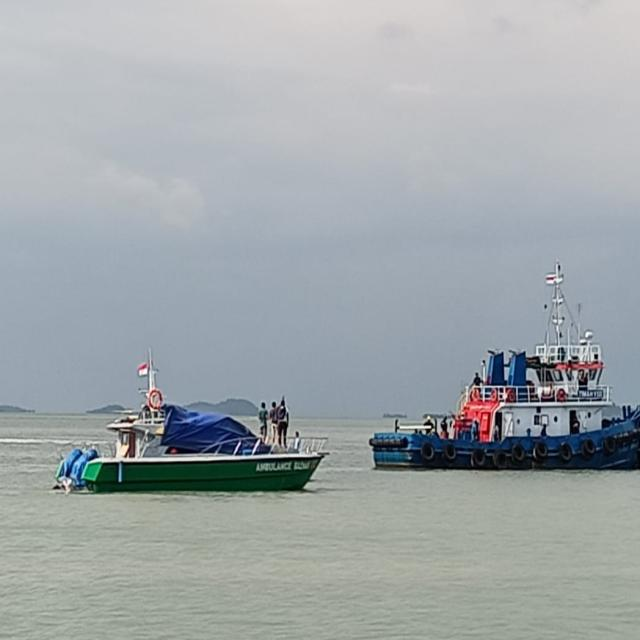fishing boat: (375, 290, 640, 473)
houseboat: (51, 364, 328, 498)
